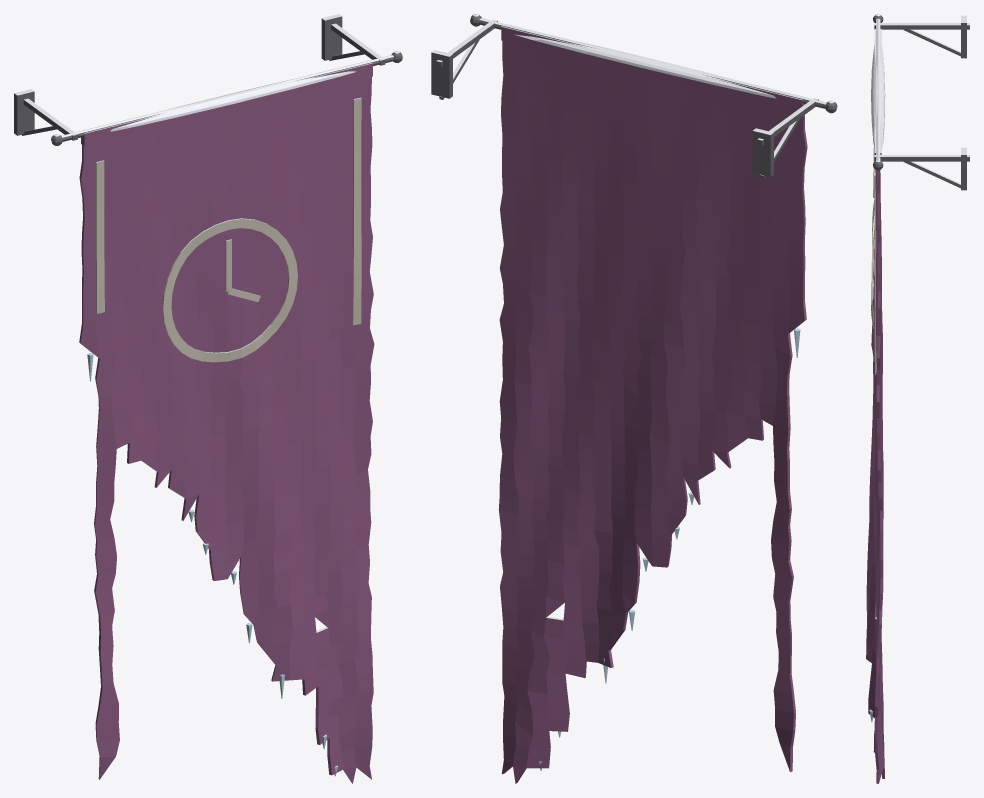
File: PR_Estandarte_Colunata_B.fbx
3 renders of one model, left to right at view 1: azimuth 30°, elevation 25°; view 2: azimuth 150°, elevation 25°; view 3: azimuth 270°, elevation 25°, orthographic. The views are drawn at different scales.
Parts seen in each view (by area): view 1: PR_Estandarte_Colunata_B; view 2: PR_Estandarte_Colunata_B; view 3: PR_Estandarte_Colunata_B.
Part boxes in pixels (bbox=[...]): PR_Estandarte_Colunata_B: bbox=[14, 14, 402, 783]; PR_Estandarte_Colunata_B: bbox=[431, 14, 837, 783]; PR_Estandarte_Colunata_B: bbox=[866, 14, 969, 783].
Bounding box in the file's own units: 3.65 × 7.22 × 1.06.
